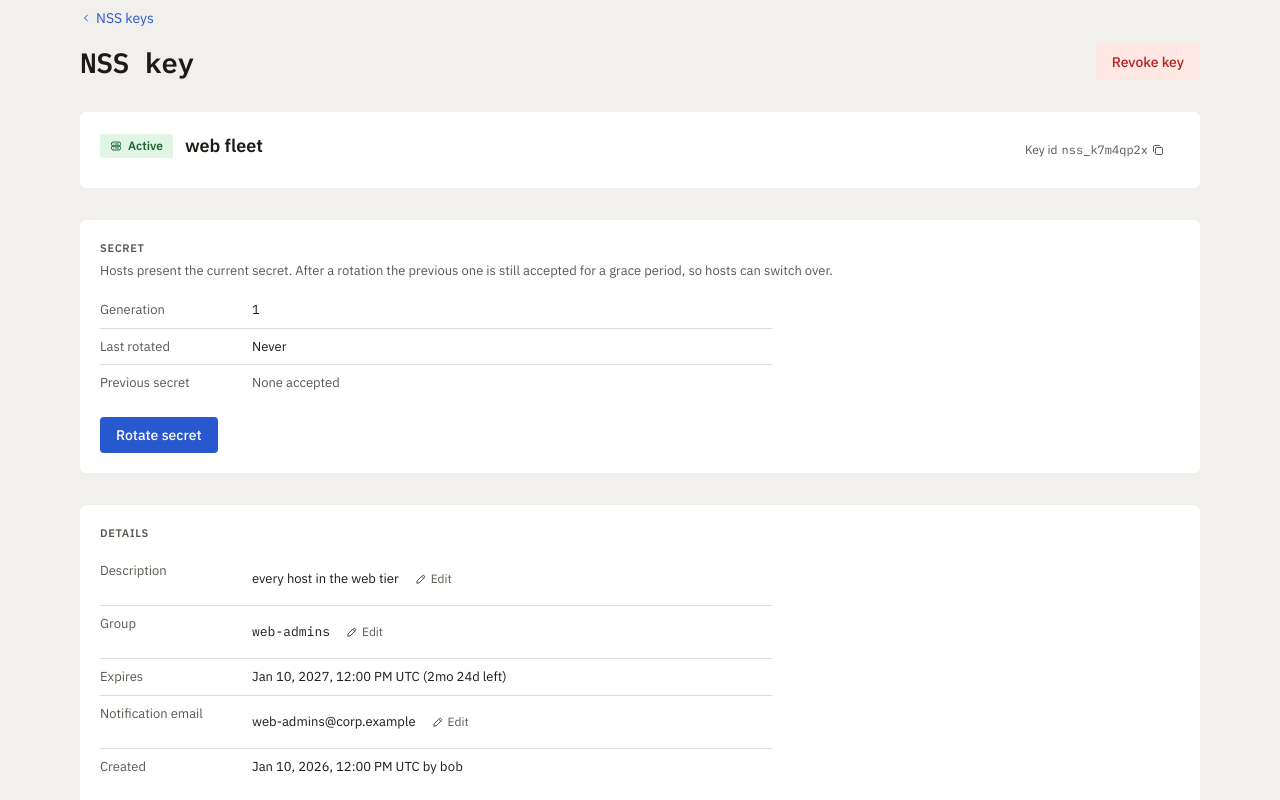
NSS key detail › revoke › should show the key as revoked once the revoke lands
Check: the element with test id "nss-key-identity" is shown, box [80,112,1200,188]
Click the button with test id "nss-key-revoke" at (1148, 62), box [1096,44,1200,80]
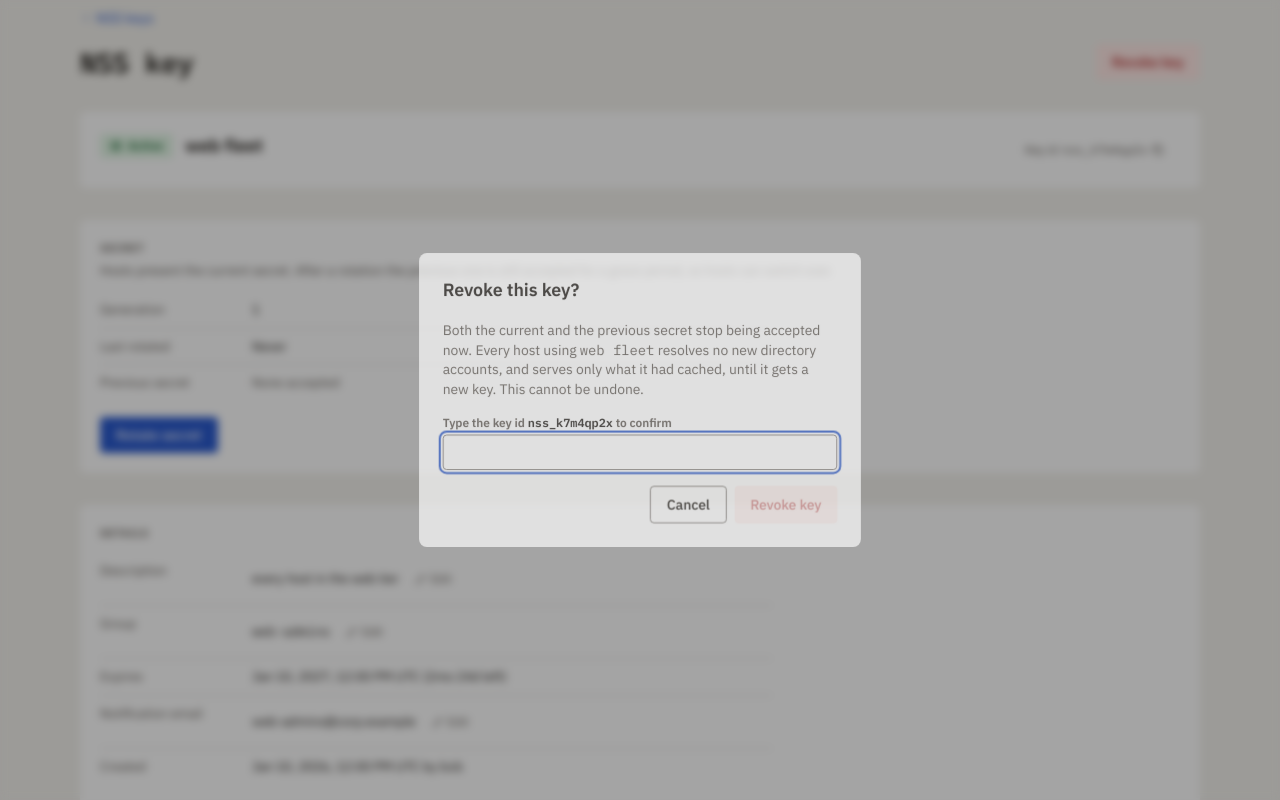
Type "nss_k7m4qp2x" into the field with test id "nss-key-revoke-typed" at (640, 453), box [440,435,840,471]
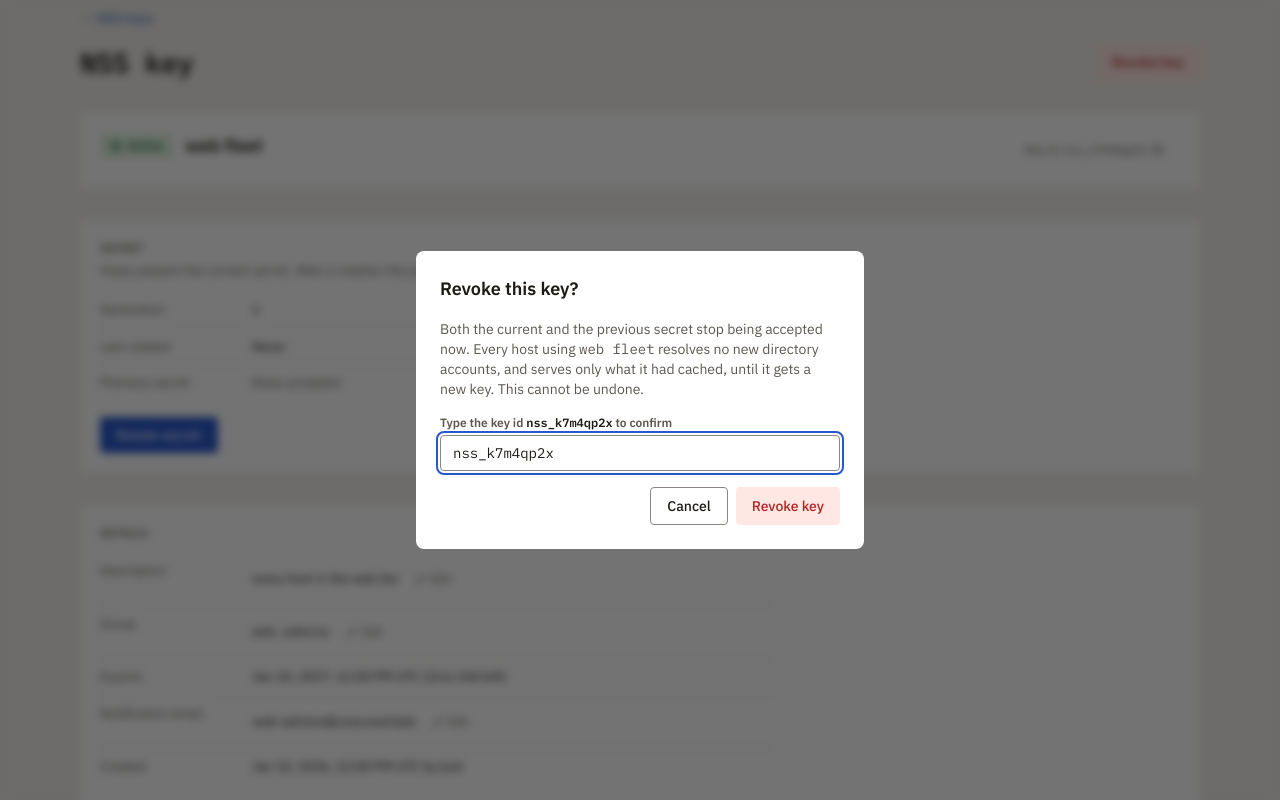
Click the button with test id "nss-key-revoke-confirm" at (788, 506), box [736,487,840,525]
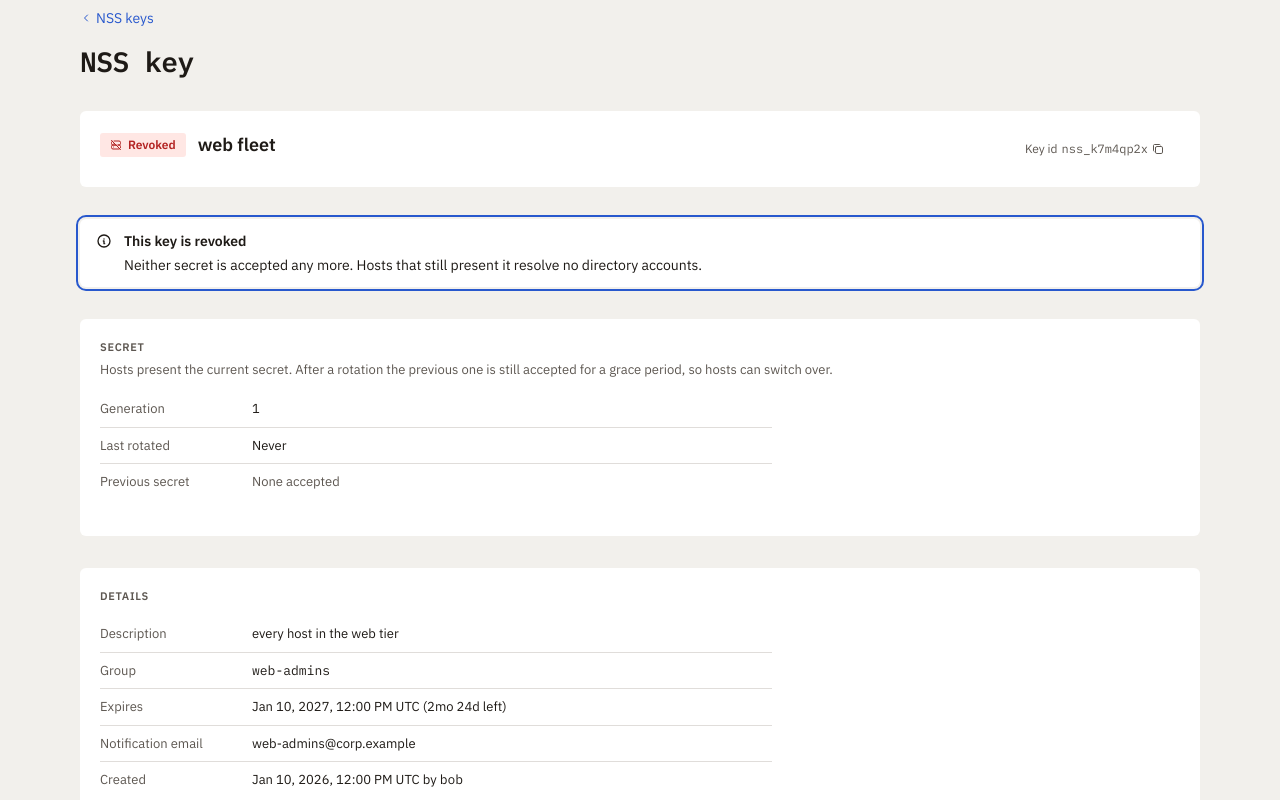
Check: the message with test id "nss-key-revoked" is shown, box [80,219,1200,287]
